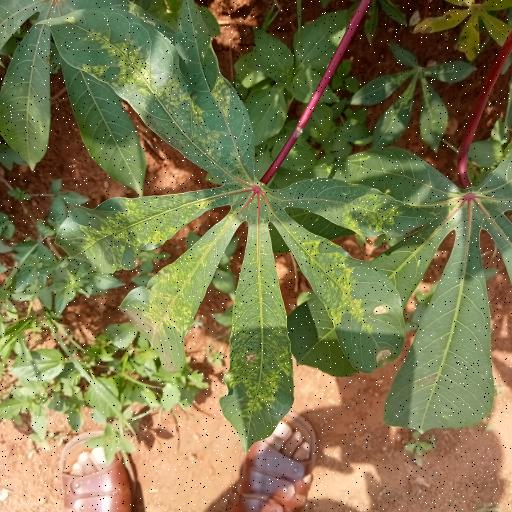Cassava_Healthy: (57, 10, 424, 418)
